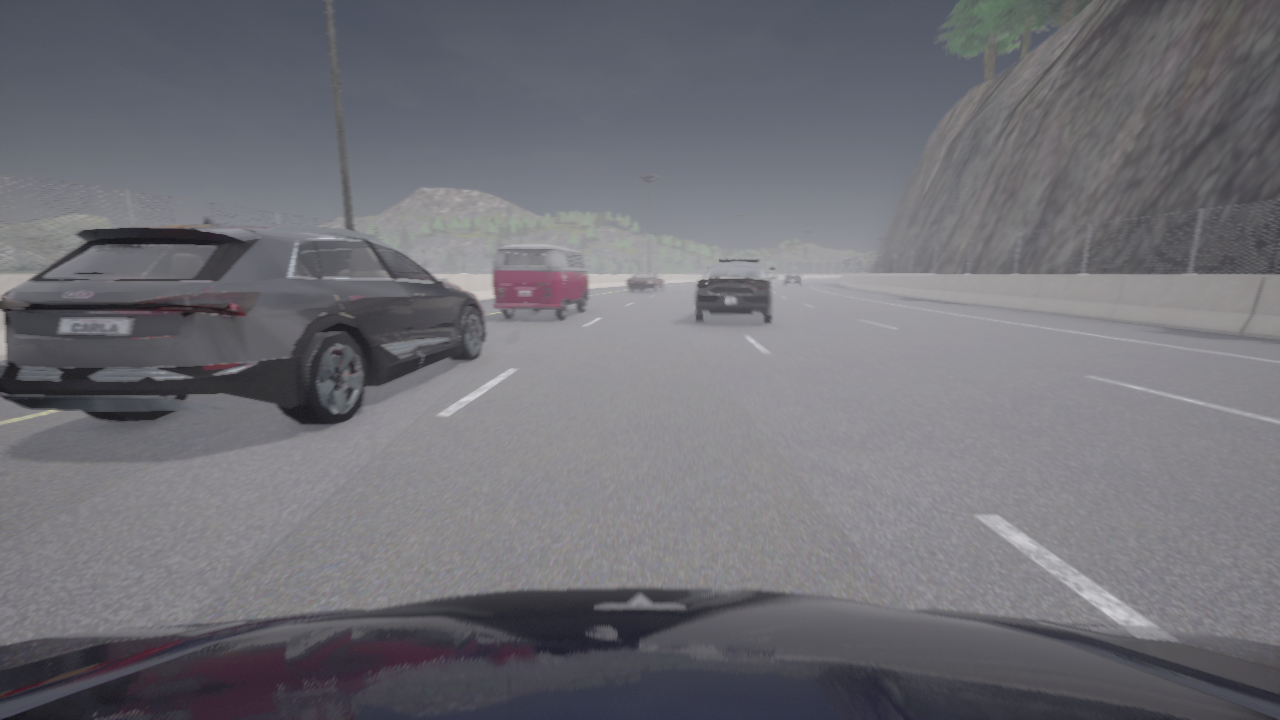cyclist: (0, 588, 1279, 719), (0, 217, 485, 424), (493, 244, 590, 319), (694, 258, 777, 323), (628, 273, 664, 291), (783, 271, 802, 286)
